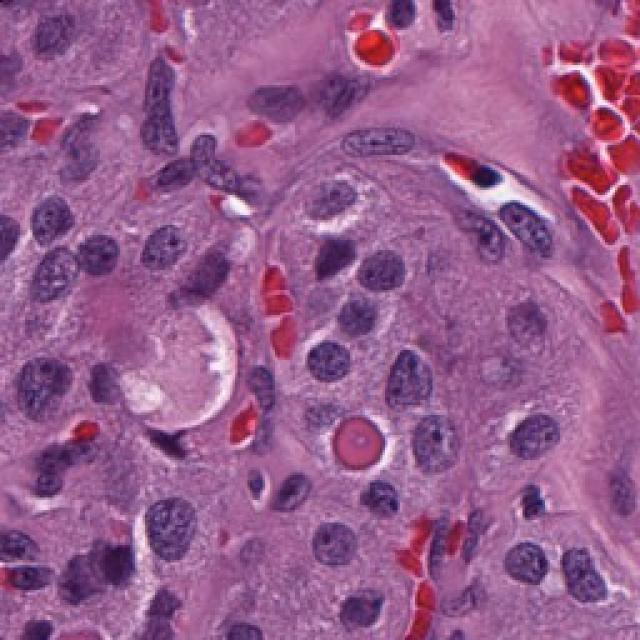abnormal: (126, 468, 222, 576), (123, 486, 225, 567), (130, 203, 213, 292), (3, 345, 88, 431), (492, 389, 570, 481), (409, 392, 480, 492), (294, 511, 372, 601), (368, 332, 444, 416), (282, 164, 374, 233), (490, 511, 554, 603), (284, 336, 369, 405), (9, 233, 86, 309), (62, 218, 134, 298), (353, 236, 424, 316), (25, 230, 89, 314), (323, 278, 389, 352)
